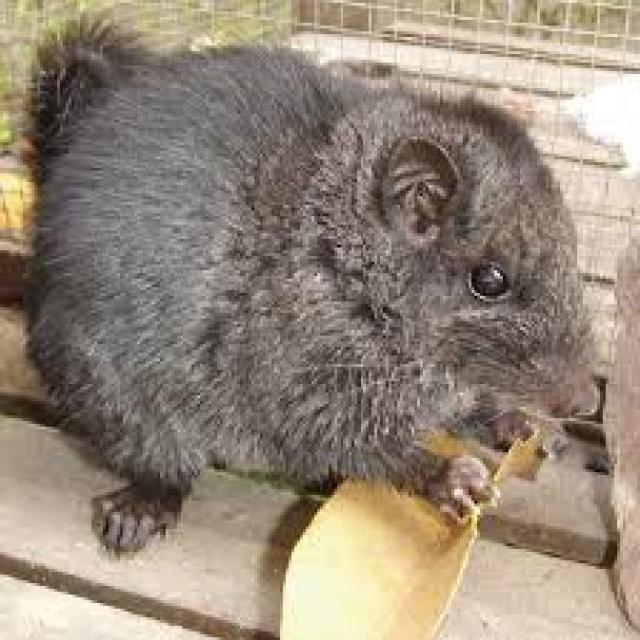Rat: (8, 1, 640, 573)
